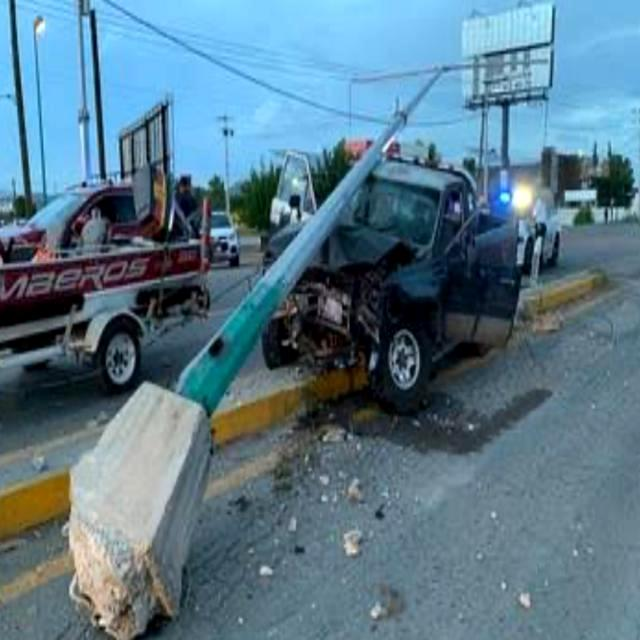Broken Pole: (67, 50, 553, 640)
